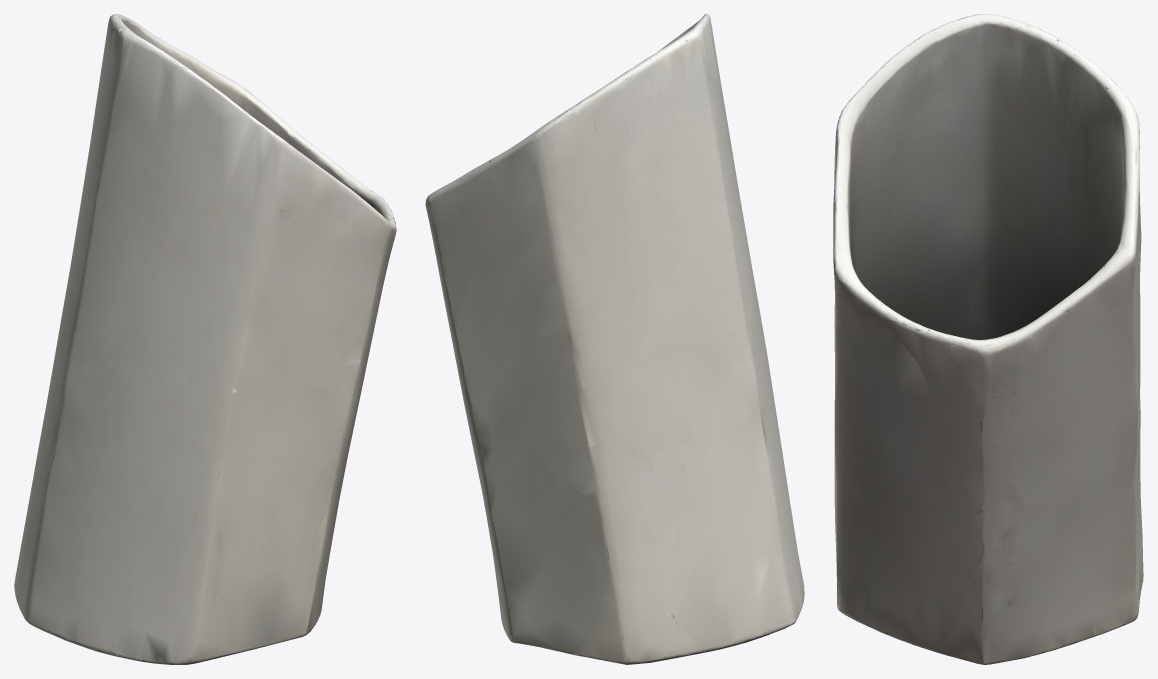
File: bicep.obj
3 renders of one model, left to right at view 1: azimuth 30°, elevation 25°; view 2: azimuth 150°, elevation 25°; view 3: azimuth 270°, elevation 25°, orthographic. The views are drawn at different scales.
Visible parts, largest first — view 1: model.002; view 2: model.002; view 3: model.002.
Boxes of the visible parts, x1,y1,x2,y2 form: model.002: [14, 14, 396, 664]; model.002: [425, 14, 804, 664]; model.002: [833, 14, 1143, 664].
Size of the model in its own units: 0.1125 by 0.1794 by 0.0887.
Materials: 1 (1 with a texture image).
